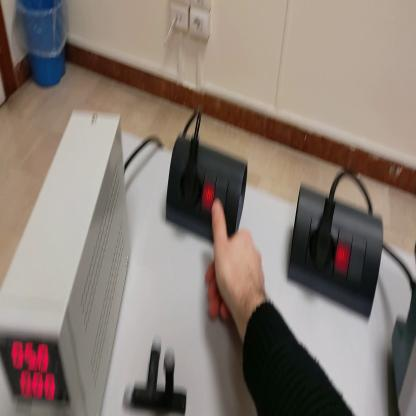hand: (206, 198, 268, 330)
oscilloscope: (392, 278, 416, 415)
power supply: (3, 108, 131, 414)
socket: (291, 182, 386, 321), (168, 128, 251, 234)
